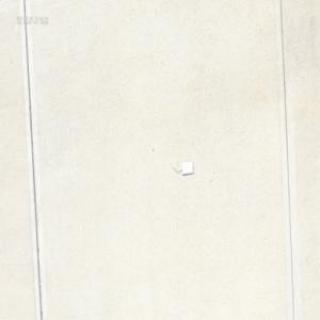LuggageTagtrack_idkeyframe: (166, 158, 193, 176)
